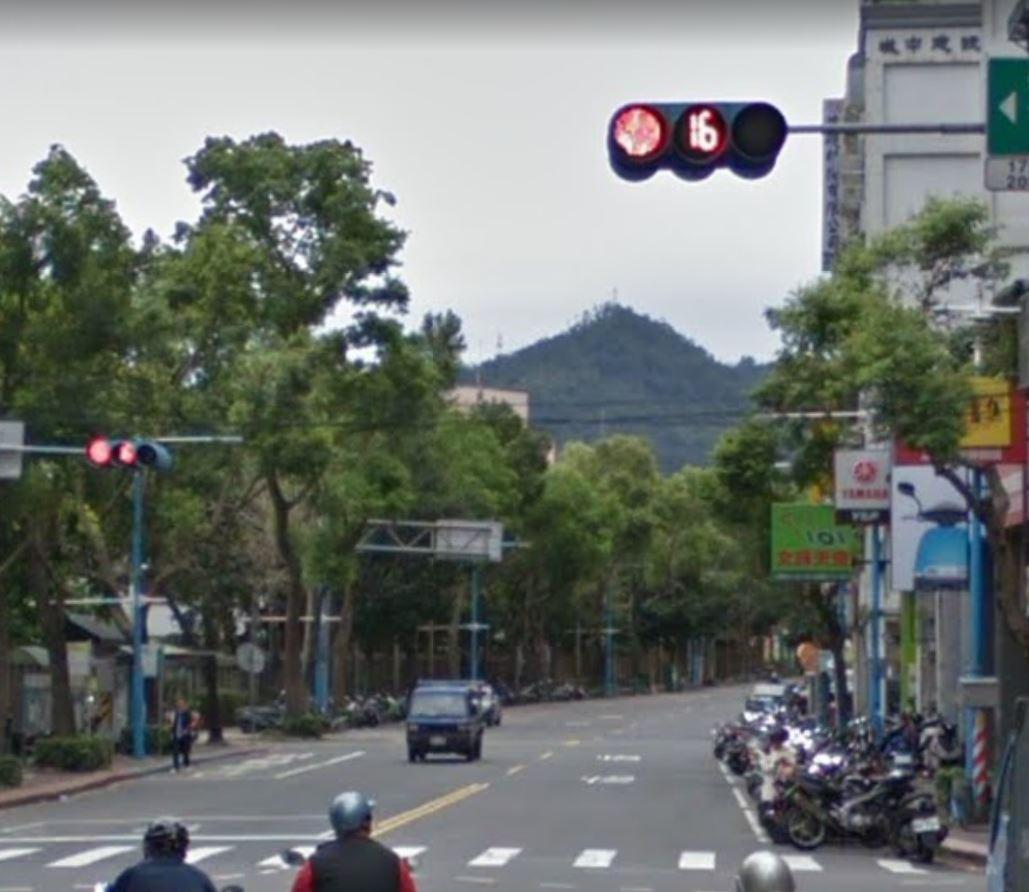red_traffic_light: (603, 98, 790, 183), (85, 434, 175, 472)
